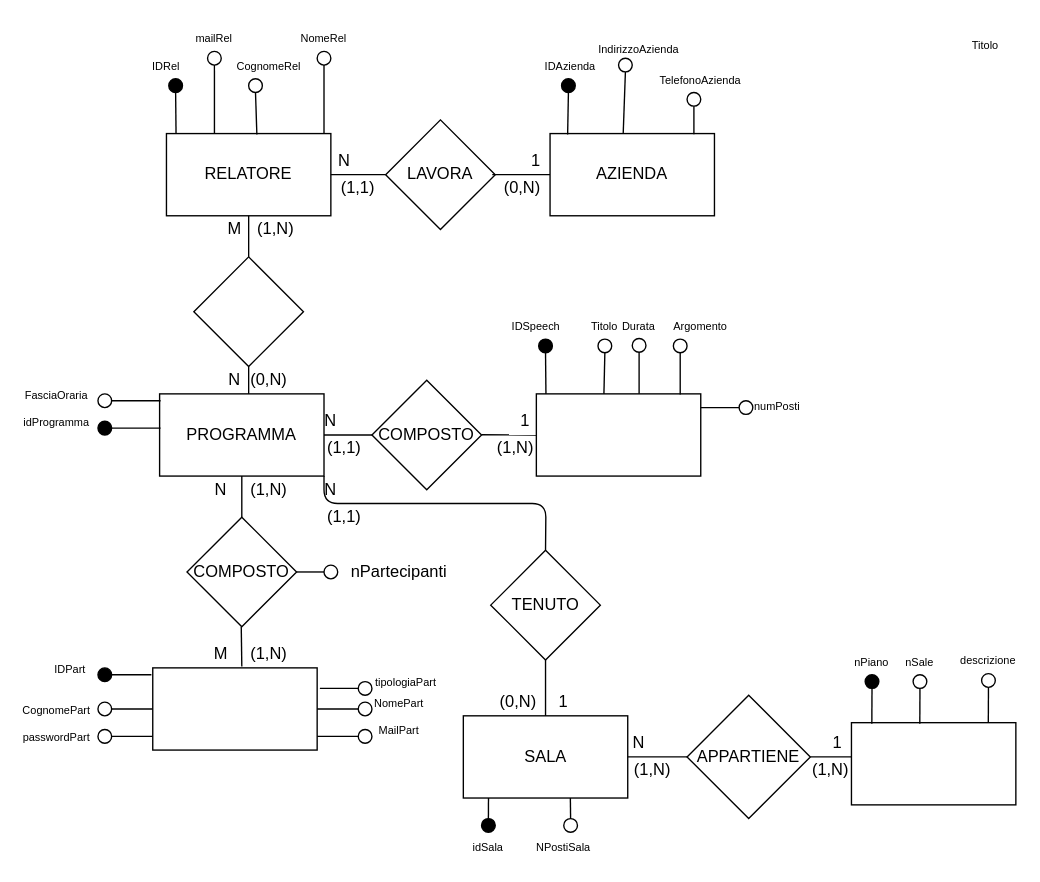
Some shapes in this 1040 by 882 pixel diagram are drawn without their labels. The shapes that lost their labels are listed below. From the top down, each one's centre as x and y in pixels, then its label:
(x=247, y=311): RELAZIONA
(x=618, y=434): SPEECH
(x=234, y=708): PARTECIPANTE
(x=933, y=763): PIANO
